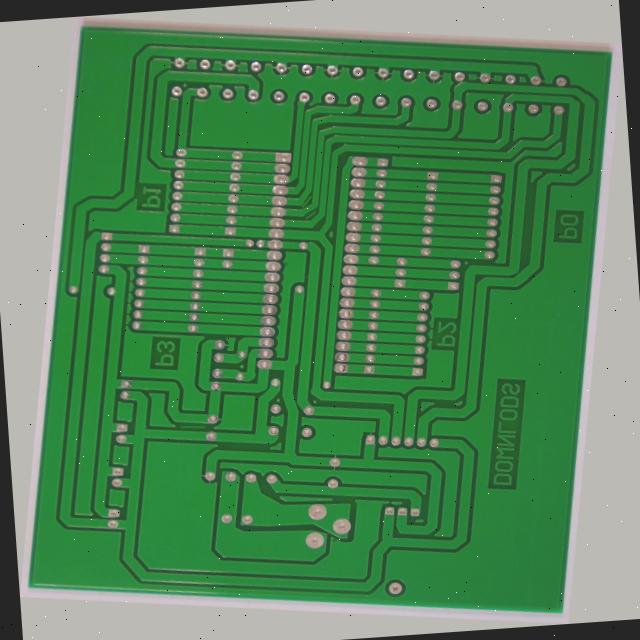spurious_copper: (173, 448, 208, 459), (272, 184, 288, 201), (280, 199, 297, 215)
